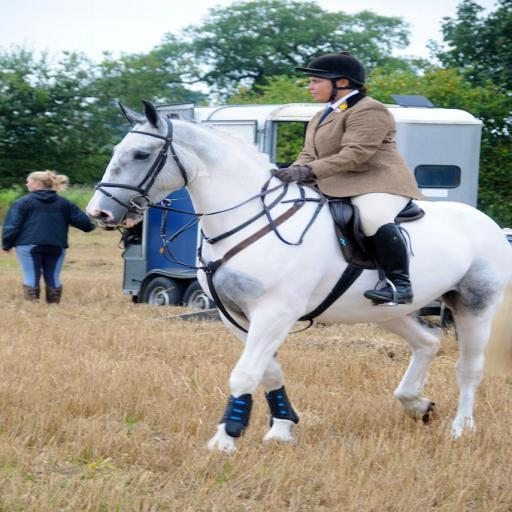horse: (86, 98, 512, 450)
